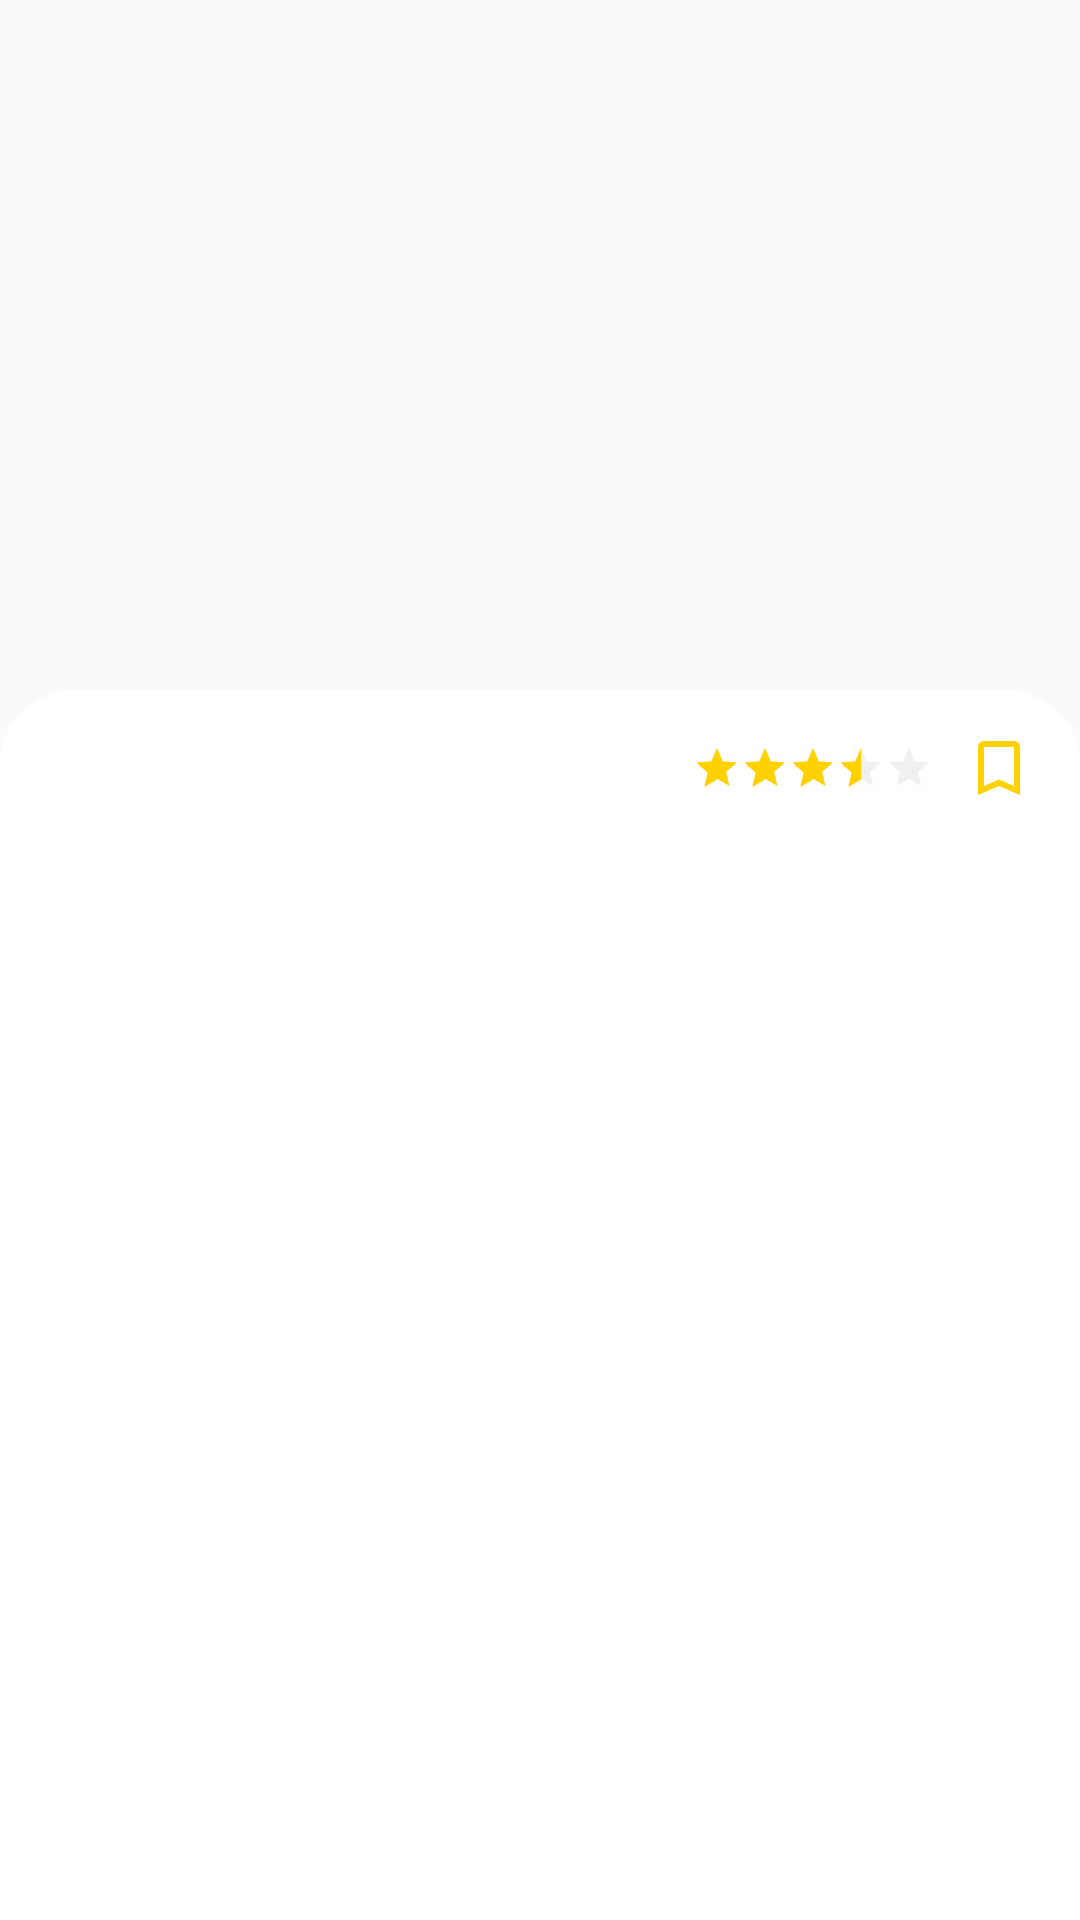

Where to tap for icons on this 1080x1920 app screen, as (x=x, y=y):
bookmark border: (x=999, y=768)
